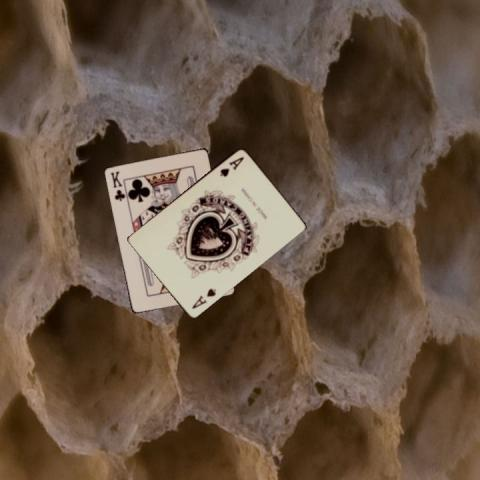As: (217, 153, 245, 178), (190, 285, 218, 310)
Kc: (108, 168, 126, 202)
